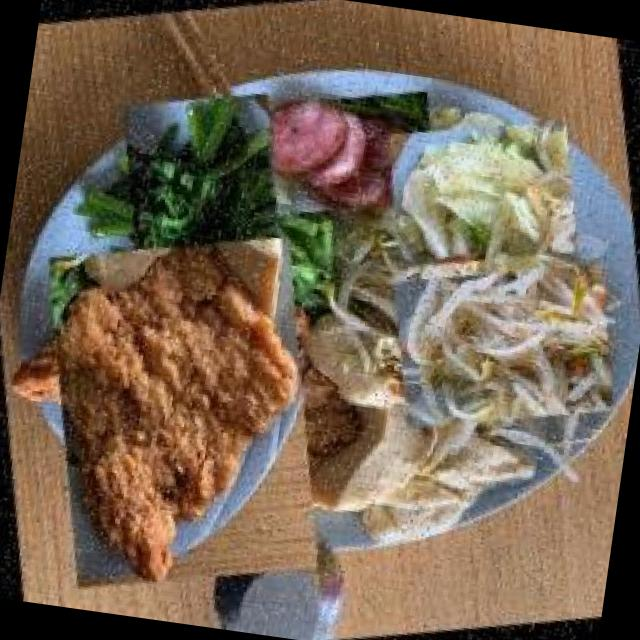chinese_cabbage: (378, 86, 590, 298)
chinese_sausage: (218, 64, 450, 245)
fried_chicken: (0, 217, 376, 606)
mung_bean_sprouts: (373, 236, 635, 457)
water_spinach: (75, 88, 338, 351)
